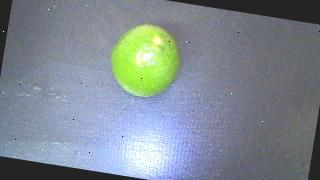EXPORTACION: (106, 19, 185, 102)
